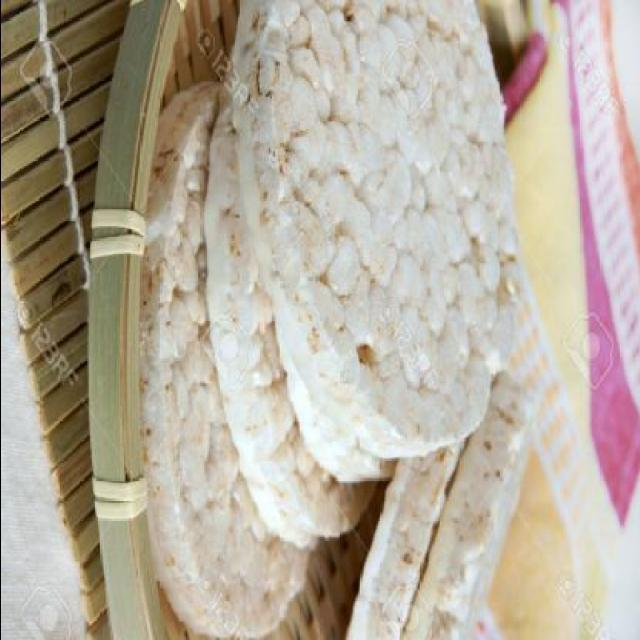Gallette di riso packaged: (137, 6, 534, 640)
